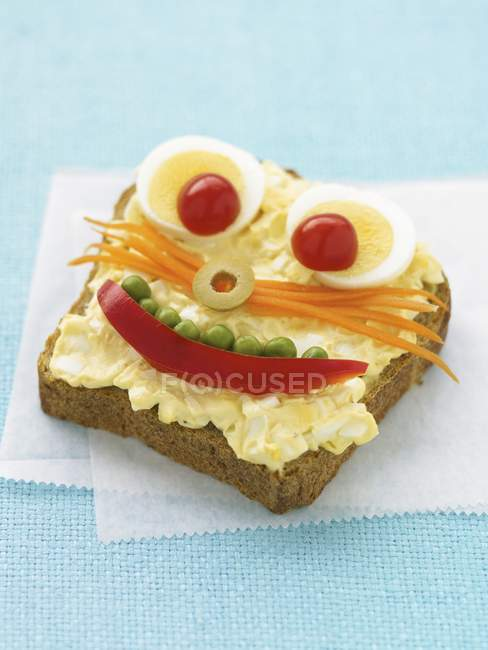slice of bread: (42, 358, 337, 484)
